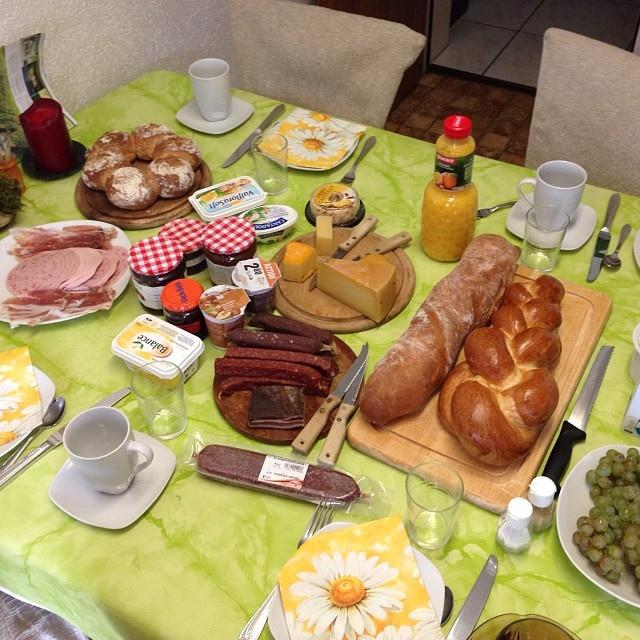grape: (592, 534, 606, 550), (623, 486, 638, 500), (594, 496, 610, 508), (608, 515, 622, 528), (604, 528, 614, 544), (590, 485, 602, 498), (597, 512, 610, 524)
